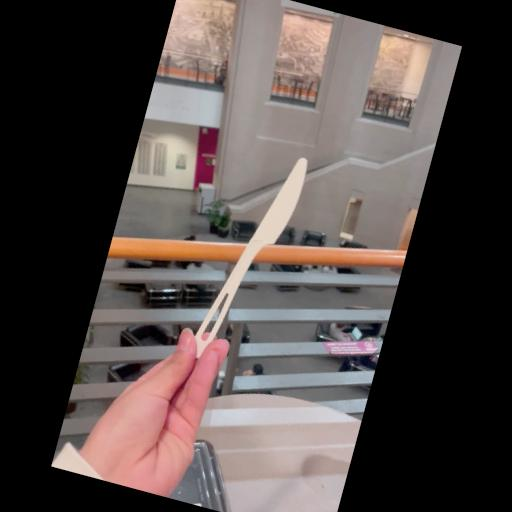utensil: (158, 124, 328, 433)
